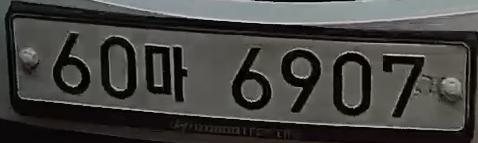0: (324, 48, 377, 116), (96, 31, 143, 101)
6: (225, 43, 277, 112), (47, 28, 95, 97)
7: (377, 50, 426, 123)
9: (276, 46, 324, 115)
마: (138, 38, 193, 105)
